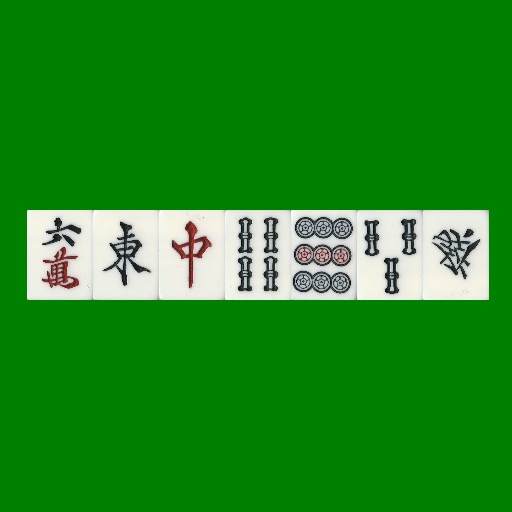3s: (357, 210, 423, 300)
4s: (225, 210, 291, 300)
6m: (27, 210, 93, 300)
9p: (291, 210, 357, 300)
east: (93, 210, 159, 300)
hatsu: (423, 210, 489, 300)
tyun: (159, 210, 225, 300)
